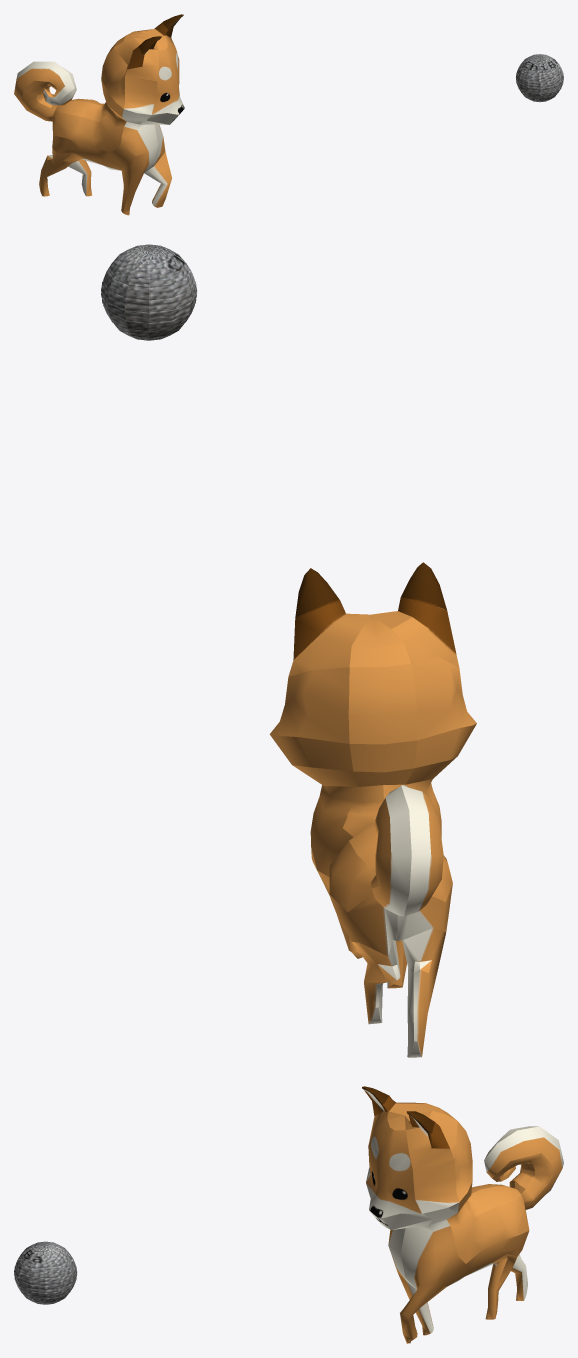
File: ball_frame32.obj
The picture shows the model from 3 angles, top to bottom: view 1: azimuth 30°, elevation 25°; view 2: azimuth 150°, elevation 25°; view 3: azimuth 270°, elevation 25°; orthographic projection. The views are drawn at different scales.
Visible parts, largest first — view 1: walk1:newRigging:BodzL1, pSphere1; view 2: walk1:newRigging:BodzL1, pSphere1; view 3: walk1:newRigging:BodzL1, pSphere1.
Part boxes in pixels (box(x1,y1,x2,y2)): walk1:newRigging:BodzL1: box(14, 14, 184, 215); pSphere1: box(516, 54, 563, 102); walk1:newRigging:BodzL1: box(269, 562, 476, 1057); pSphere1: box(101, 244, 197, 340); walk1:newRigging:BodzL1: box(362, 1086, 563, 1343); pSphere1: box(14, 1241, 77, 1304).
Size of the model in its own units: 15.32 by 8.24 by 15.68.
Materials: 2 (2 with a texture image).
